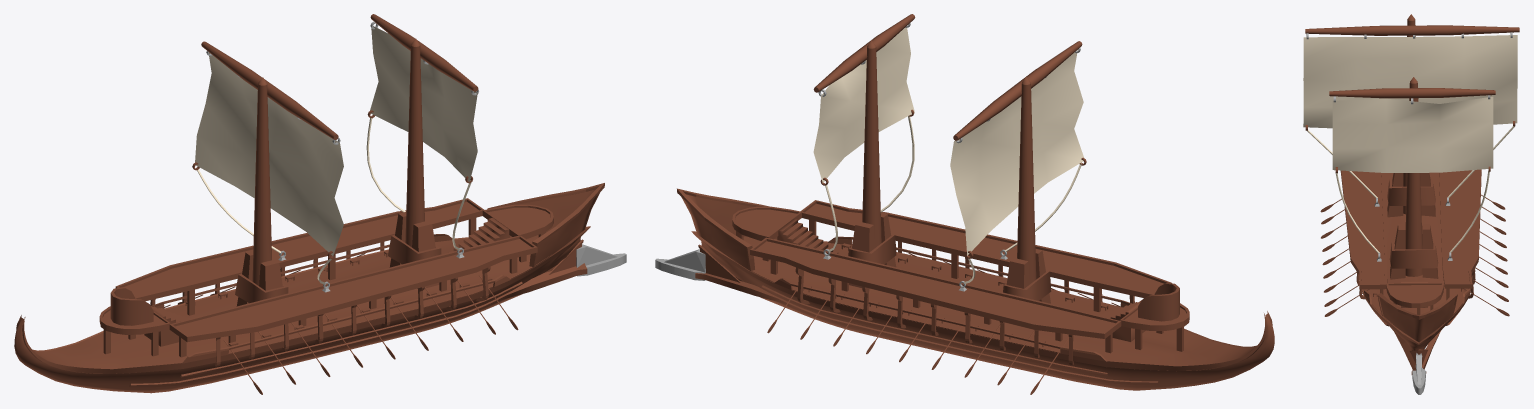
Rendered from GreekShipBroke.fbx.
The picture shows the model from 3 angles, left to right: view 1: azimuth 30°, elevation 25°; view 2: azimuth 150°, elevation 25°; view 3: azimuth 270°, elevation 25°; orthographic projection. The views are drawn at different scales.
Visible parts, largest first — view 1: GreekShip.059, GreekShip.056, GreekShip.041, GreekShip.055, GreekShip.042, GreekShip.060, GreekShip.001, GreekShip.047, GreekShip.049, GreekShip.063, GreekShip.048, GreekShip.040 (+11 smaller); view 2: GreekShip.059, GreekShip.056, GreekShip.042, GreekShip.041, GreekShip.055, GreekShip.060, GreekShip.001, GreekShip.047, GreekShip.049, GreekShip.061, GreekShip.040, GreekShip.048 (+11 smaller); view 3: GreekShip.056, GreekShip.055, GreekShip.041, GreekShip.042, GreekShip.059, GreekShip.048, GreekShip.001, GreekShip.047, GreekShip.050, GreekShip.040, GreekShip.075, GreekShip.101 (+9 smaller).
Part boxes in pixels (bbox=[...]): GreekShip.059: bbox=[14, 232, 580, 393]; GreekShip.056: bbox=[195, 52, 343, 256]; GreekShip.041: bbox=[169, 235, 537, 342]; GreekShip.055: bbox=[370, 26, 477, 182]; GreekShip.042: bbox=[115, 198, 484, 301]; GreekShip.060: bbox=[16, 226, 590, 373]; GreekShip.001: bbox=[487, 183, 604, 267]; GreekShip.047: bbox=[405, 38, 424, 247]; GreekShip.049: bbox=[252, 77, 271, 285]; GreekShip.063: bbox=[129, 263, 587, 387]; GreekShip.048: bbox=[201, 41, 338, 139]; GreekShip.040: bbox=[482, 204, 553, 238]; GreekShip.059: bbox=[701, 236, 1274, 390]; GreekShip.056: bbox=[950, 49, 1083, 255]; GreekShip.042: bbox=[750, 237, 1121, 338]; GreekShip.041: bbox=[800, 200, 1171, 298]; GreekShip.055: bbox=[813, 27, 914, 182]; GreekShip.060: bbox=[691, 231, 1272, 371]; GreekShip.001: bbox=[677, 188, 777, 271]; GreekShip.047: bbox=[862, 40, 881, 247]; GreekShip.049: bbox=[1017, 76, 1036, 283]; GreekShip.061: bbox=[695, 273, 1159, 384]; GreekShip.040: bbox=[732, 206, 802, 240]; GreekShip.048: bbox=[953, 41, 1082, 140]; GreekShip.056: bbox=[1303, 35, 1517, 128]; GreekShip.055: bbox=[1332, 96, 1493, 172]; GreekShip.041: bbox=[1340, 170, 1387, 289]; GreekShip.042: bbox=[1439, 169, 1481, 288]; GreekShip.059: bbox=[1365, 172, 1467, 350]; GreekShip.048: bbox=[1305, 25, 1519, 35]; GreekShip.001: bbox=[1377, 292, 1457, 342]; GreekShip.047: bbox=[1405, 77, 1422, 276]; GreekShip.050: bbox=[1329, 88, 1495, 98]; GreekShip.040: bbox=[1386, 283, 1443, 307]; GreekShip.075: bbox=[1389, 241, 1438, 268]; GreekShip.101: bbox=[1387, 178, 1435, 205].
Bounding box in the file's own units: 14086 × 6467 × 5131.
